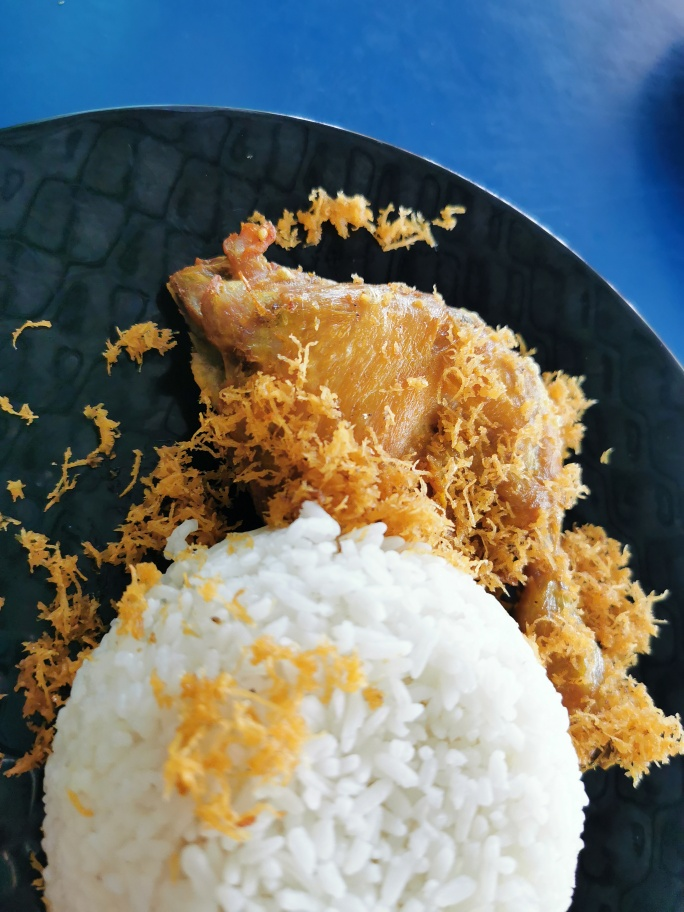ayam goreng: (164, 199, 675, 781)
nasi putih: (58, 513, 583, 912)
